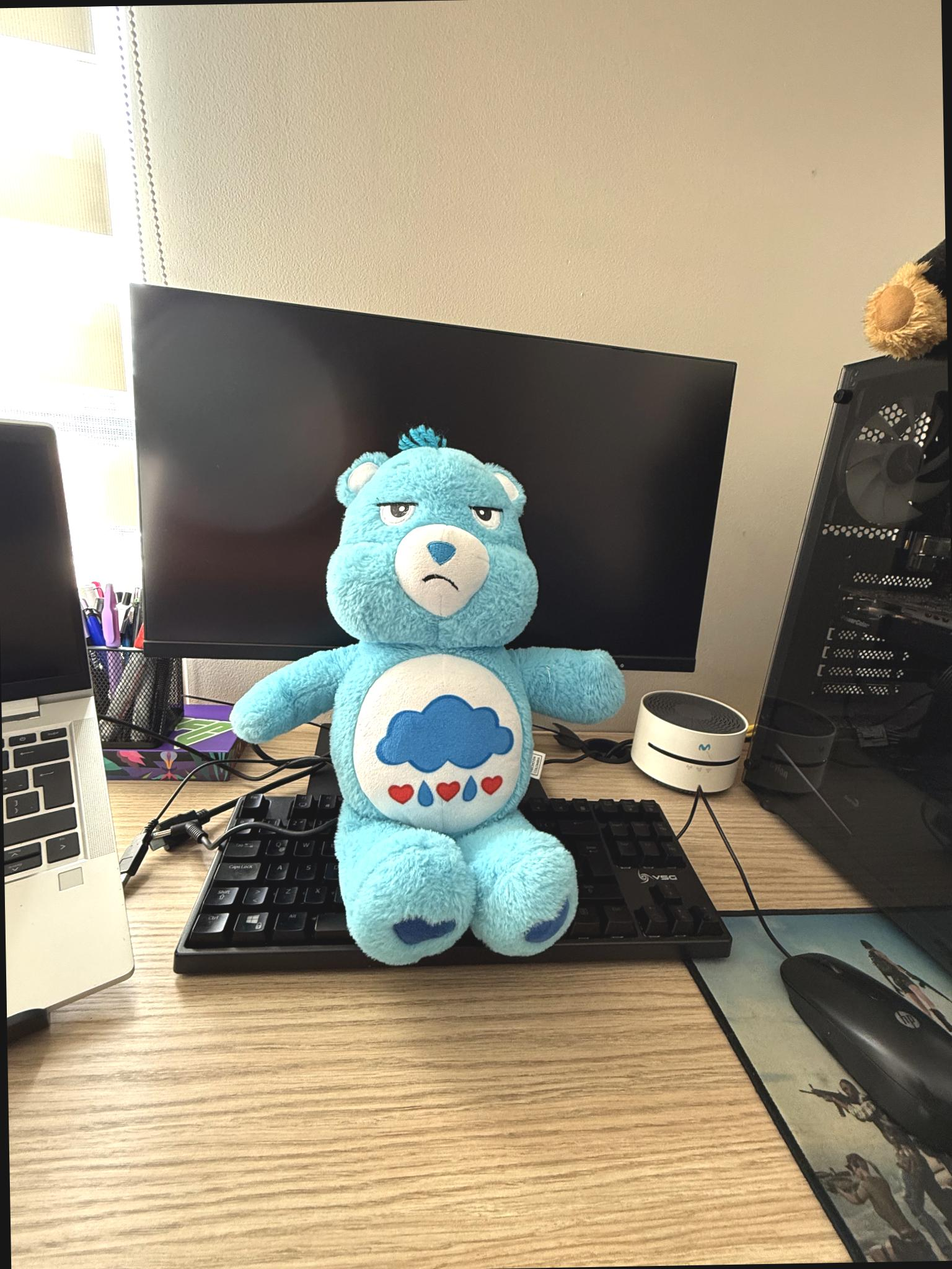peluche_Juan Jose: (223, 418, 632, 969)
